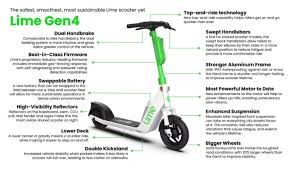kick_body: (112, 119, 144, 130)
kick_handler: (126, 20, 176, 31)
kick_wheel: (160, 118, 189, 150), (89, 102, 108, 127)
